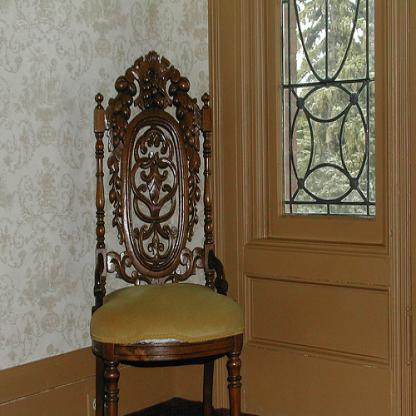chair: (88, 49, 247, 415)
